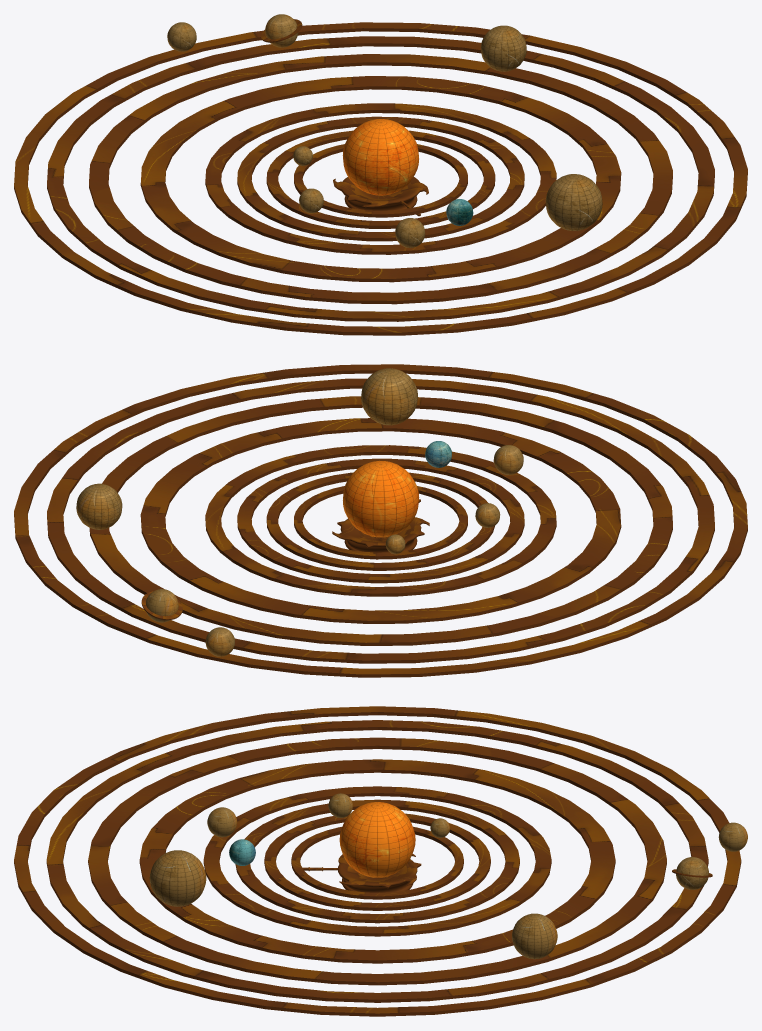
The model's file is Escenario_textura.fbx.
3 renders of one model, top to bottom at view 1: azimuth 30°, elevation 25°; view 2: azimuth 150°, elevation 25°; view 3: azimuth 270°, elevation 25°, orthographic.
Visible parts, largest first — view 1: Aro6, Planet7, Aro7, Aro5, Aro4, Aro3, Sol, Aro2, Planet5, Aro1, Plataforma, Planet6 (+4 smaller); view 2: Aro7, Planet7, Aro5, Aro6, Aro4, Aro3, Sol, Aro2, Aro1, Planet5, Planet6, Plataforma (+4 smaller); view 3: Aro6, Planet7, Aro7, Aro5, Aro4, Aro3, Sol, Aro2, Aro1, Planet5, Plataforma, Planet6 (+4 smaller).
Boxes of the visible parts, <box> form: Aro6: <box>89,54,672,304</box>; Planet7: <box>47,36,714,321</box>; Aro7: <box>14,22,747,335</box>; Aro5: <box>140,76,621,282</box>; Aro4: <box>205,103,556,254</box>; Aro3: <box>237,116,524,241</box>; Sol: <box>342,119,418,195</box>; Aro2: <box>266,130,495,228</box>; Planet5: <box>545,174,602,230</box>; Aro1: <box>294,144,467,217</box>; Plataforma: <box>333,177,428,216</box>; Planet6: <box>480,25,526,71</box>; Aro7: <box>14,364,747,677</box>; Planet7: <box>47,378,714,663</box>; Aro5: <box>140,418,621,623</box>; Aro6: <box>89,396,672,645</box>; Aro4: <box>205,445,556,596</box>; Aro3: <box>237,458,524,583</box>; Sol: <box>343,460,419,537</box>; Aro2: <box>266,472,494,570</box>; Aro1: <box>294,486,467,559</box>; Planet5: <box>361,368,417,425</box>; Planet6: <box>76,483,122,529</box>; Plataforma: <box>332,499,429,552</box>; Aro6: <box>88,737,666,985</box>; Planet7: <box>46,720,708,1002</box>; Aro7: <box>14,706,741,1016</box>; Aro5: <box>139,759,615,963</box>; Aro4: <box>203,786,551,936</box>; Aro3: <box>235,799,519,923</box>; Sol: <box>339,802,415,877</box>; Aro2: <box>264,813,490,910</box>; Aro1: <box>291,826,463,899</box>; Planet5: <box>149,850,206,906</box>; Plataforma: <box>302,854,421,892</box>; Planet6: <box>512,913,557,959</box>.
Size of the model in its own units: 51.08 by 6.03 by 51.55.
